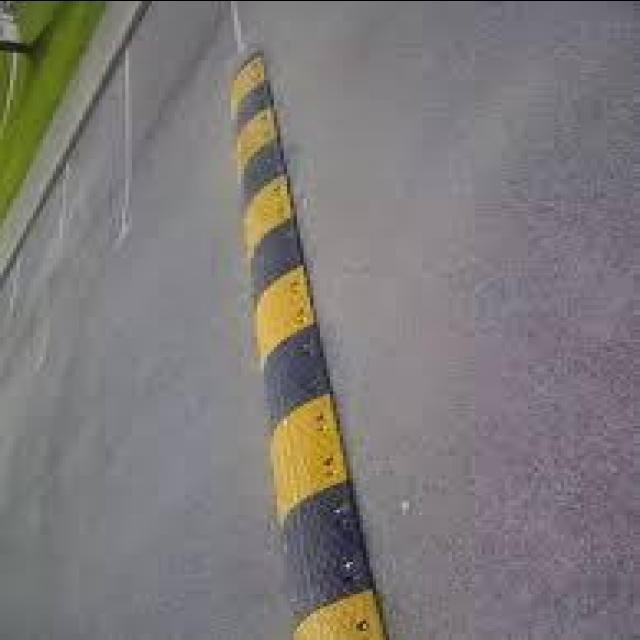speedbreaker: (206, 0, 398, 640)
